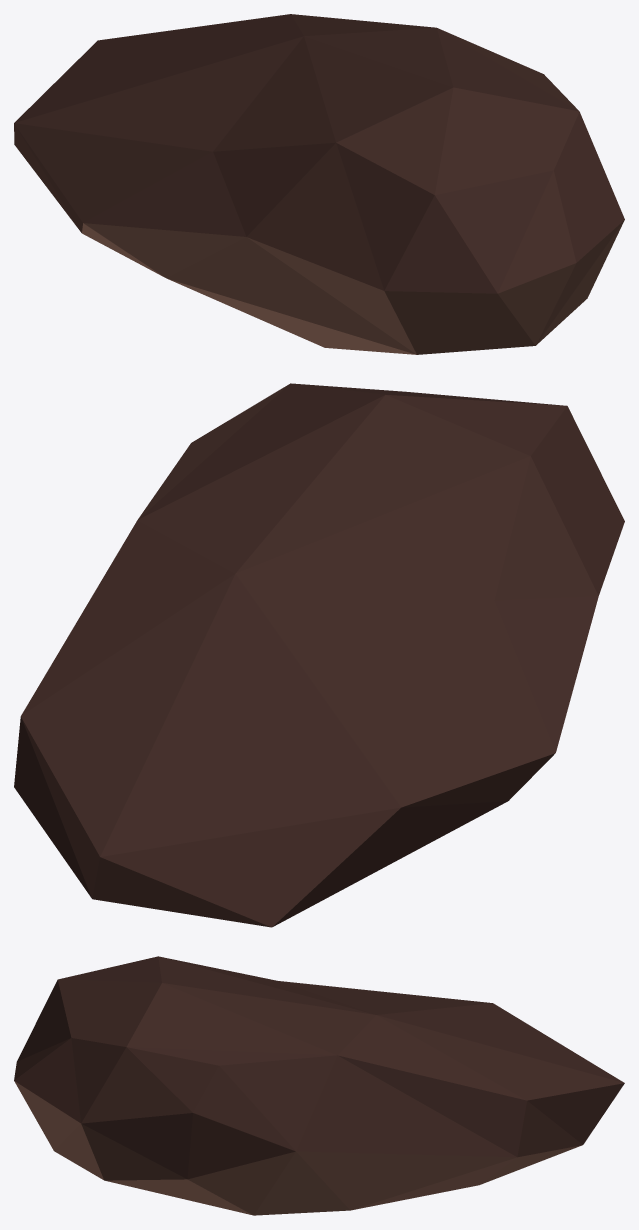
File: Brown_stone_008.fbx
3 views of the same model, one above another, from view 1: azimuth 30°, elevation 25°; view 2: azimuth 150°, elevation 25°; view 3: azimuth 270°, elevation 25° (orthographic). The views are drawn at different scales.
Parts seen in each view (by area): view 1: Brown_stone_008; view 2: Brown_stone_008; view 3: Brown_stone_008.
Part boxes in pixels (left/top/right/bottom): Brown_stone_008: left=14, top=14, right=624, bottom=354; Brown_stone_008: left=14, top=383, right=624, bottom=927; Brown_stone_008: left=14, top=956, right=624, bottom=1215.
Size of the model in its own units: 314 by 524 by 204.
